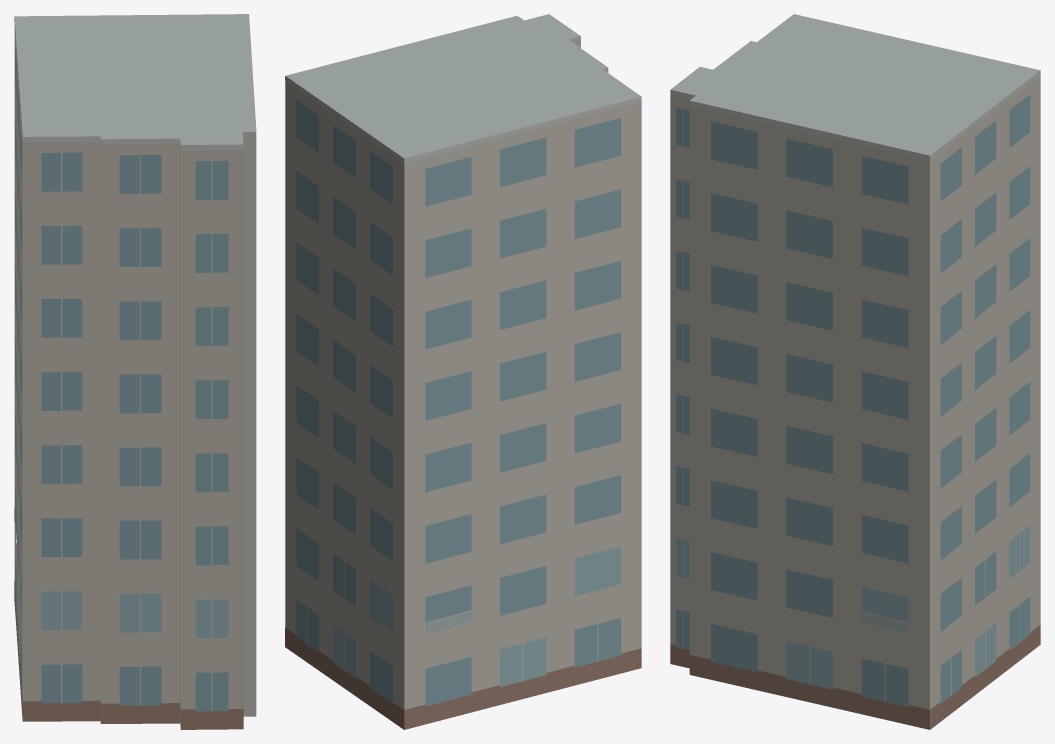
The model's file is survey-upis-32958186.glb.
The picture shows the model from 3 angles, left to right: view 1: azimuth 30°, elevation 25°; view 2: azimuth 150°, elevation 25°; view 3: azimuth 270°, elevation 25°; orthographic projection. The views are drawn at different scales.
Visible parts, largest first — view 1: survey-upis-32958186.tmp; view 2: survey-upis-32958186.tmp; view 3: survey-upis-32958186.tmp.
Boxes of the visible parts, <box> form: survey-upis-32958186.tmp: <box>14,14,256,729</box>; survey-upis-32958186.tmp: <box>285,14,641,729</box>; survey-upis-32958186.tmp: <box>670,14,1040,729</box>.
Bounding box in the file's own units: 14.58 × 27.55 × 16.11.
